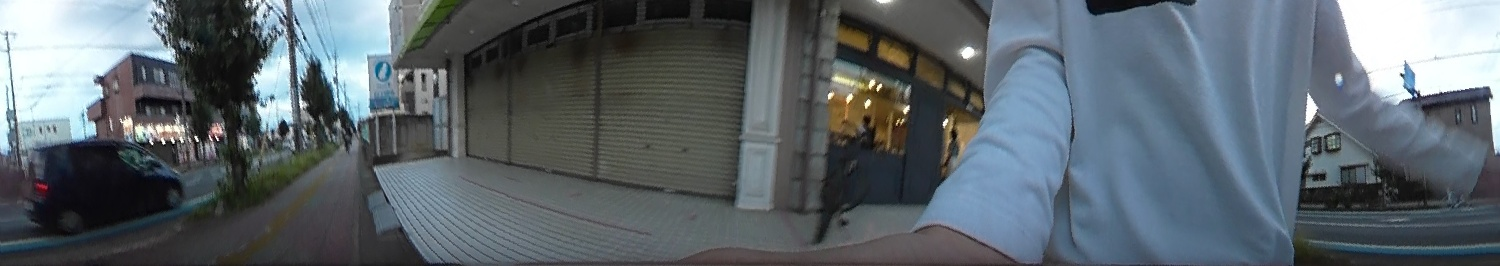difficult_person: (944, 127, 962, 169), (854, 109, 873, 141)
